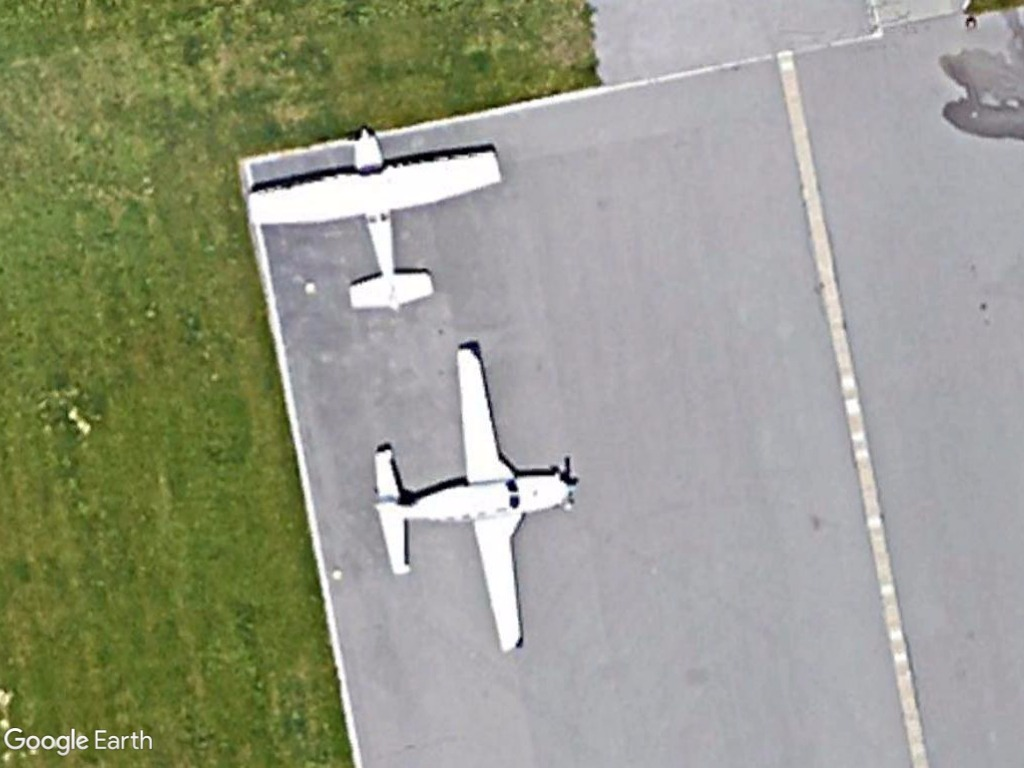trainer: (361, 338, 586, 651), (237, 118, 510, 325)
